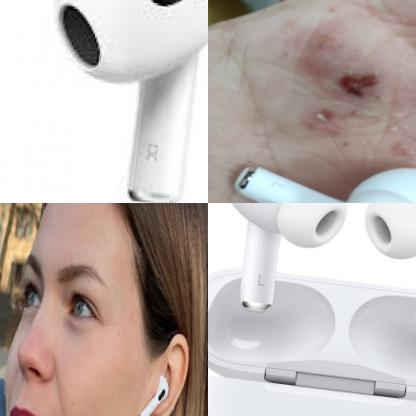Airpods: (24, 0, 208, 203), (224, 112, 416, 203), (208, 203, 346, 321), (357, 203, 416, 339), (137, 369, 173, 416)
